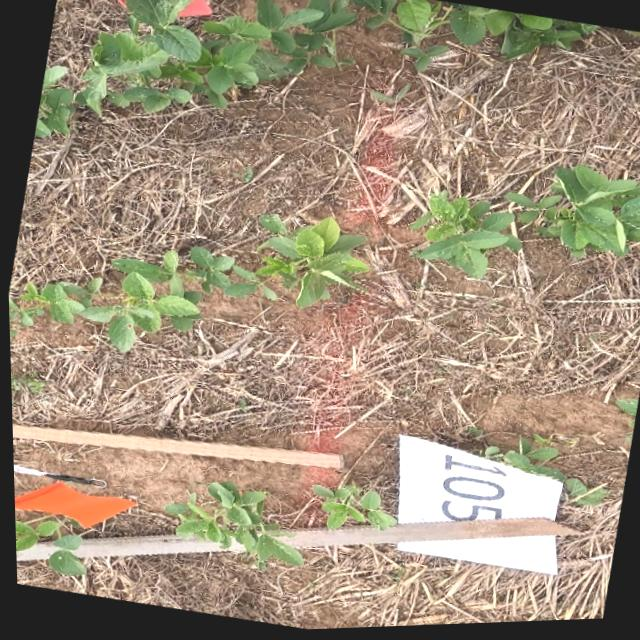caruru_weed: (9, 373, 42, 398)
soy_plant: (33, 0, 596, 137), (7, 217, 366, 353), (411, 170, 640, 282), (10, 424, 336, 470), (162, 484, 297, 568), (483, 440, 604, 509), (12, 516, 81, 575), (309, 486, 392, 532), (614, 403, 635, 427)
